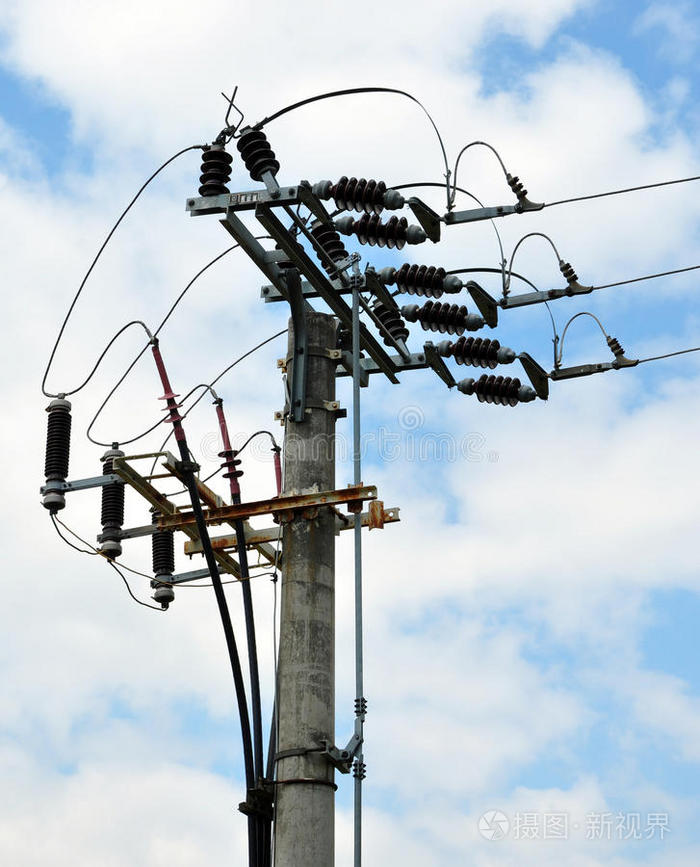insulator: (237, 130, 278, 181), (354, 213, 410, 248), (393, 261, 445, 298), (416, 299, 467, 334), (336, 177, 383, 213), (476, 372, 521, 409), (311, 224, 347, 269), (373, 299, 408, 345), (454, 335, 500, 369), (199, 148, 230, 194)
